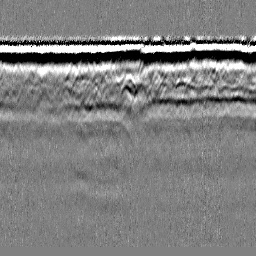cavity: (120, 72, 136, 95)
